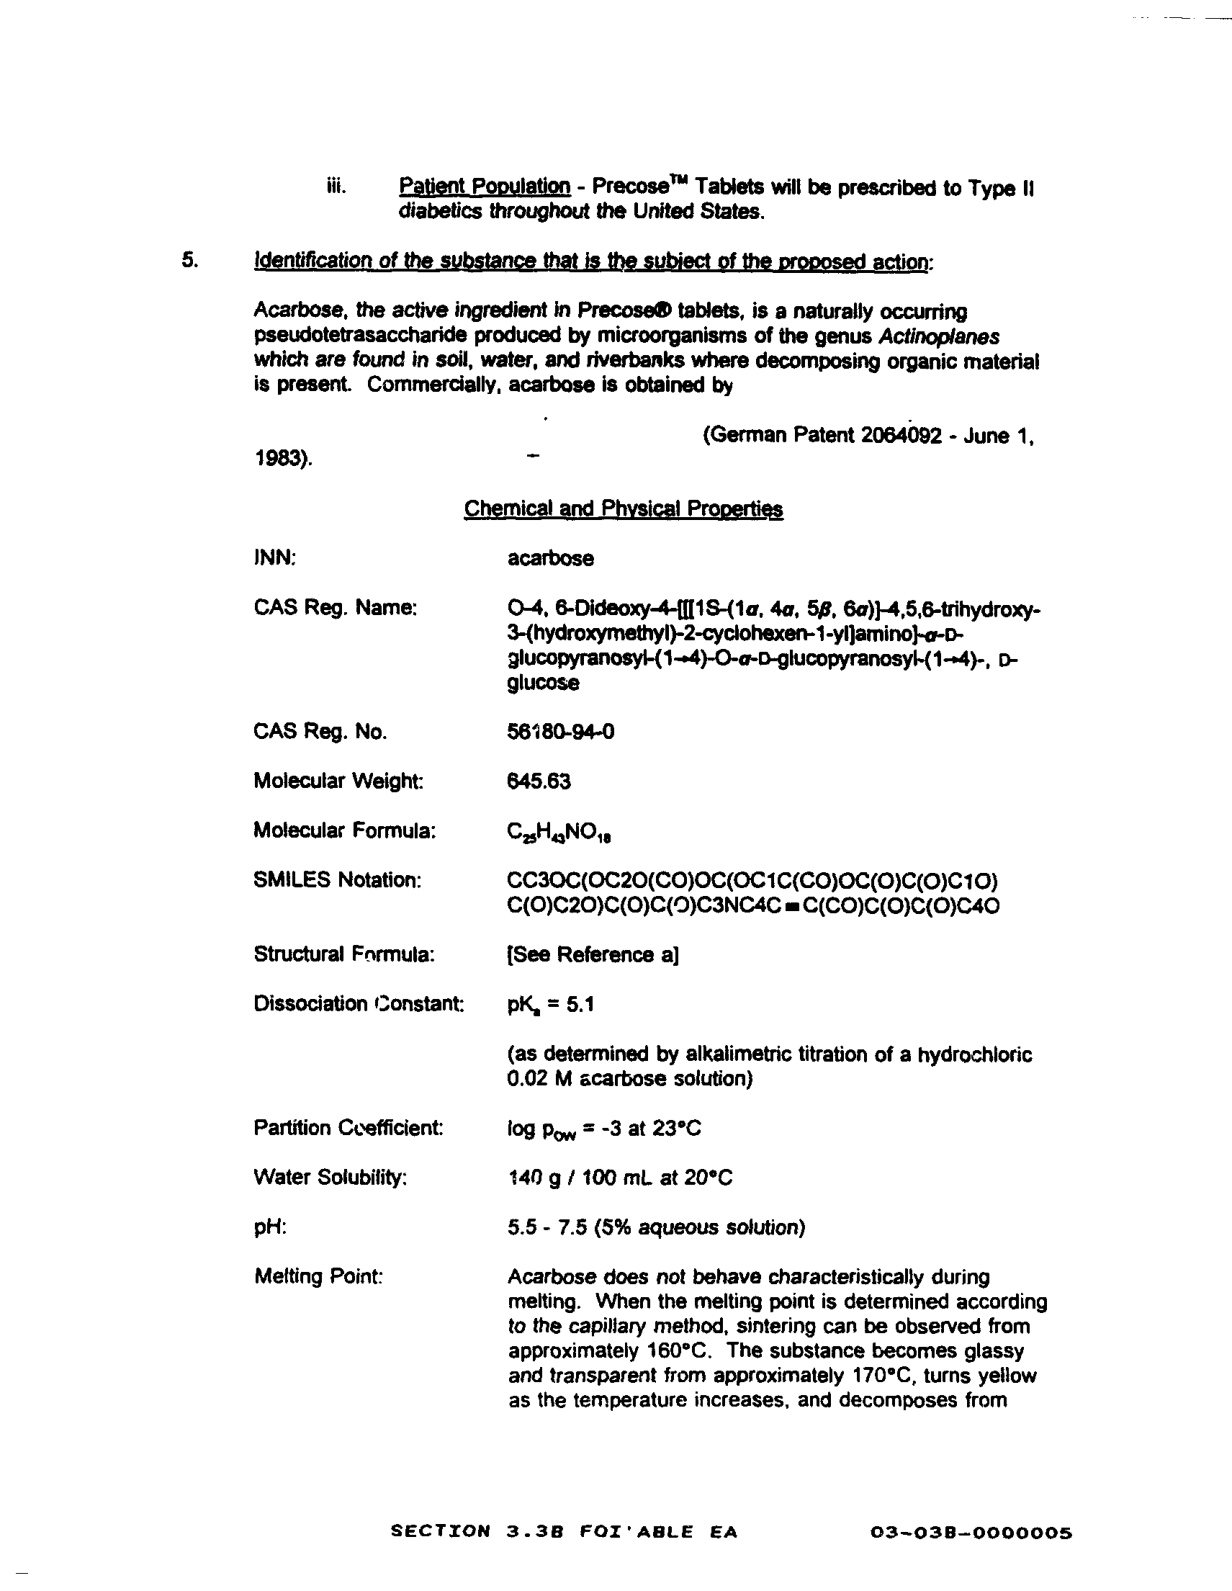nolines: (251, 546, 1050, 1411)
